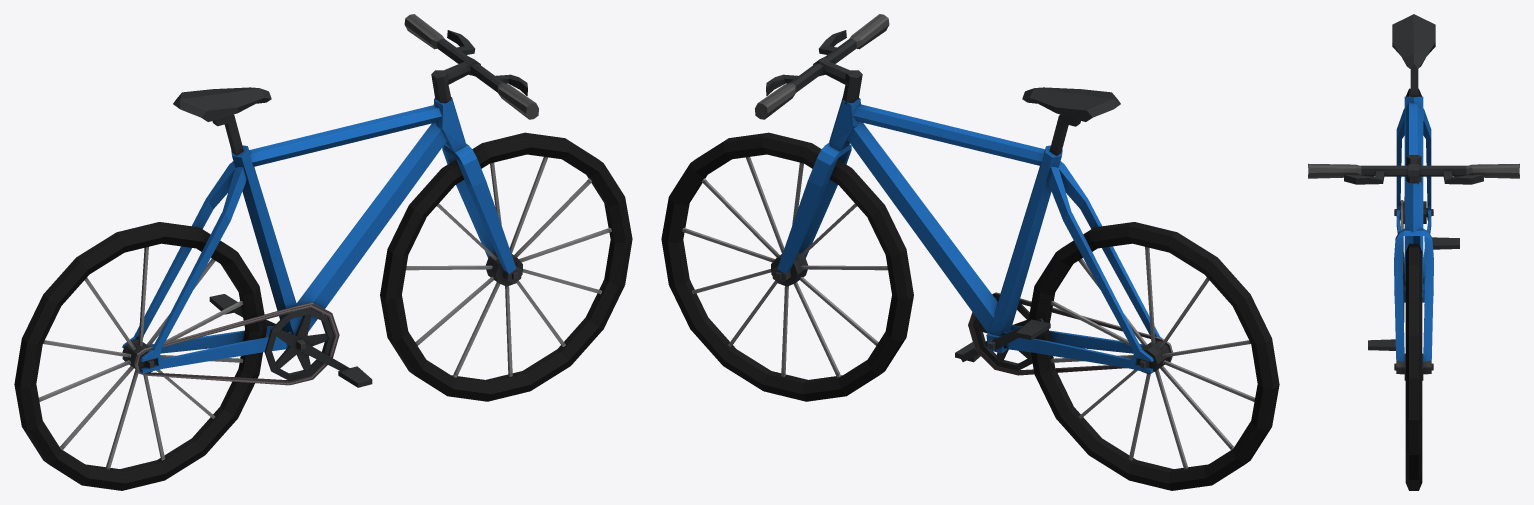
File: Bike.obj
3 views of the same model, side by side, from view 1: azimuth 30°, elevation 25°; view 2: azimuth 150°, elevation 25°; view 3: azimuth 270°, elevation 25° (orthographic). The views are drawn at different scales.
Parts seen in each view (by area): view 1: Bike_mesh; view 2: Bike_mesh; view 3: Bike_mesh.
Boxes of the visible parts, bbox=[...] form: Bike_mesh: bbox=[14, 14, 632, 490]; Bike_mesh: bbox=[661, 14, 1279, 490]; Bike_mesh: bbox=[1308, 14, 1519, 490].
Size of the model in its own units: 3.61 by 2.11 by 1.24.
1 material, 1 textured.
